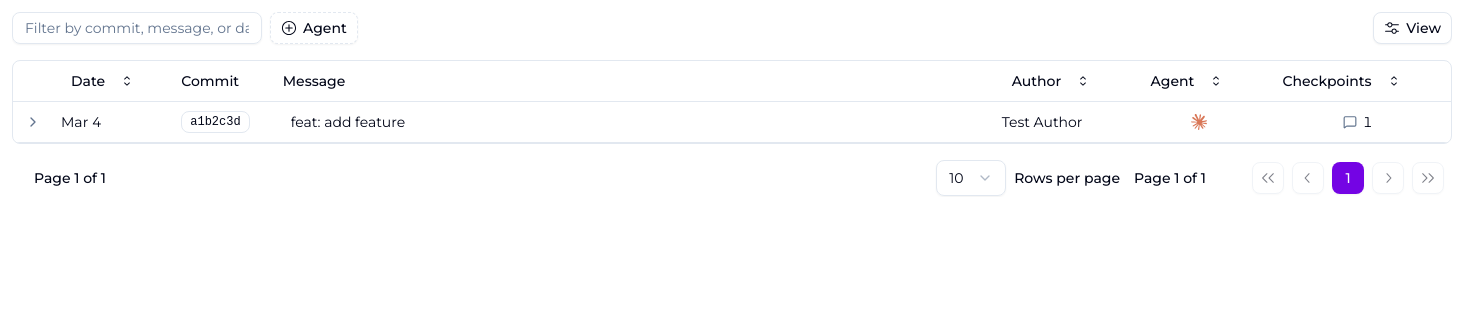
Scenario: CommitTable › falls back to checkpoint id when no prompt preview exists
Click the button named "expand row".
click(33, 122)  # box 21,110 -> 45,134
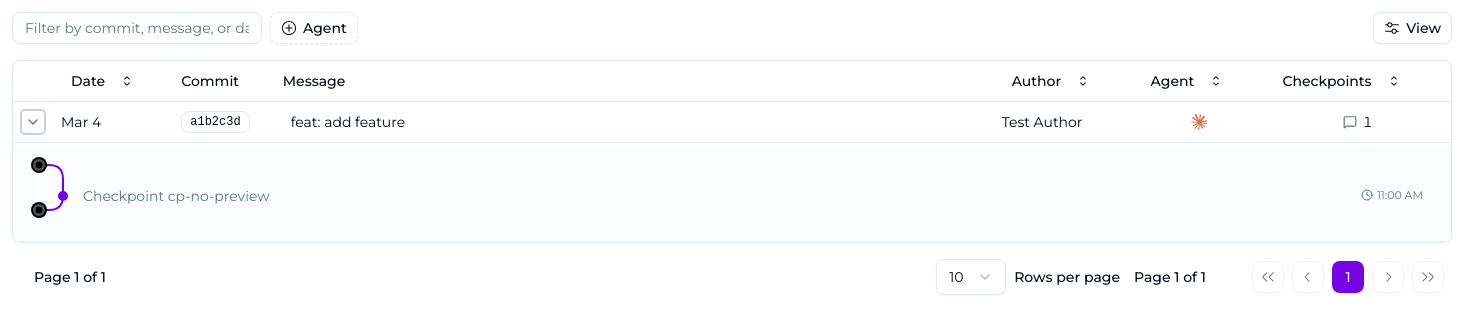
Expected: the button "Checkpoint cp-no-preview 11:00 AM" is shown, 71,178 -> 1435,212
